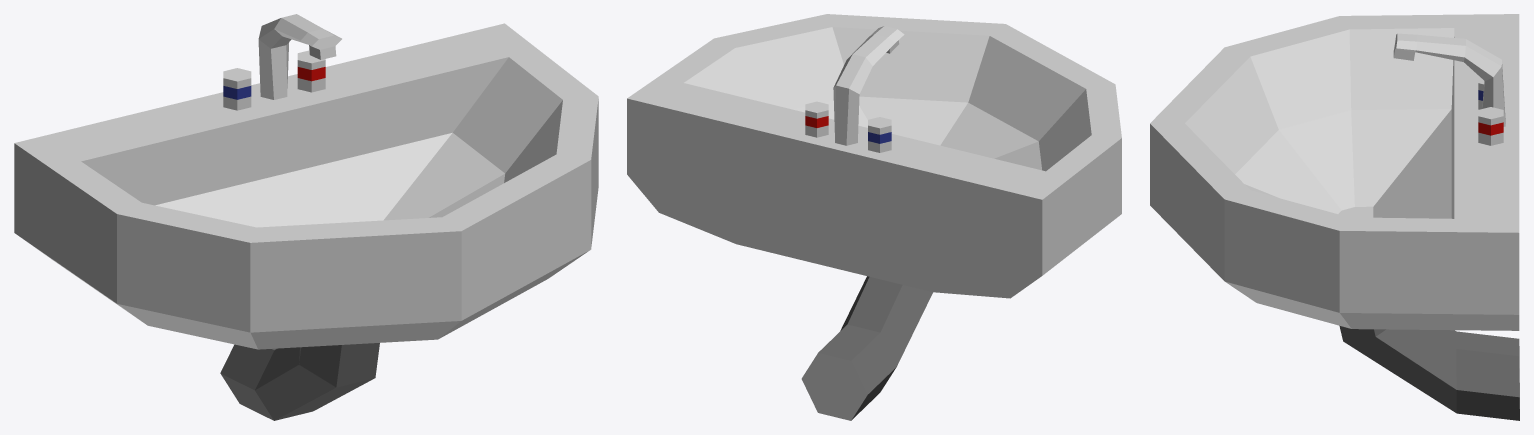
File: P_Jail_HandsWasher.fbx
The picture shows the model from 3 angles, left to right: view 1: azimuth 30°, elevation 25°; view 2: azimuth 150°, elevation 25°; view 3: azimuth 270°, elevation 25°; orthographic projection. The views are drawn at different scales.
Parts seen in each view (by area): view 1: P_Jail_HandsWasher; view 2: P_Jail_HandsWasher; view 3: P_Jail_HandsWasher.
Part boxes in pixels (x1=…): P_Jail_HandsWasher: x1=14, y1=14, x2=598, y2=420; P_Jail_HandsWasher: x1=627, y1=14, x2=1121, y2=420; P_Jail_HandsWasher: x1=1150, y1=14, x2=1519, y2=420.
Size of the model in its own units: 471 by 336 by 377.
